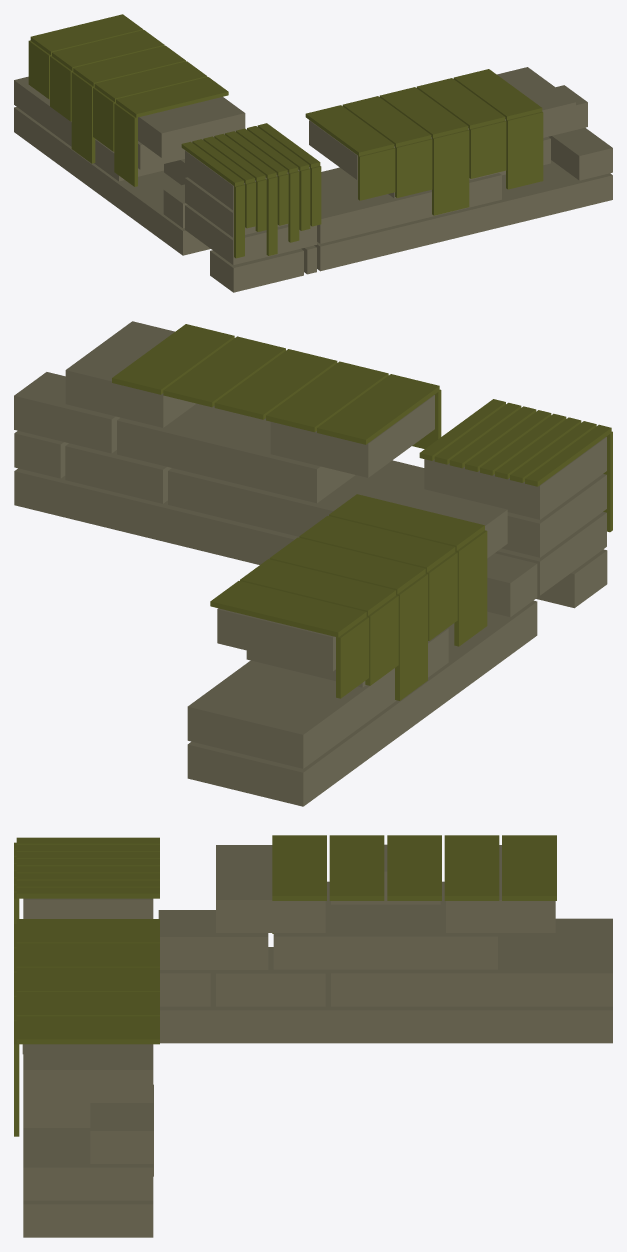
The model's file is SM_PretilEsquina_v4_Red_e1_Danado_LOD1.fbx.
The picture shows the model from 3 angles, top to bottom: view 1: azimuth 30°, elevation 25°; view 2: azimuth 150°, elevation 25°; view 3: azimuth 270°, elevation 25°; orthographic projection. The views are drawn at different scales.
Parts seen in each view (by area): view 1: SM_pretil_azotea_v37_LOD1; view 2: SM_pretil_azotea_v37_LOD1; view 3: SM_pretil_azotea_v37_LOD1.
Boxes of the visible parts, box(x1,y1,x2,y2) form: SM_pretil_azotea_v37_LOD1: box(14, 14, 612, 292); SM_pretil_azotea_v37_LOD1: box(14, 321, 612, 806); SM_pretil_azotea_v37_LOD1: box(14, 835, 612, 1237).
Bounding box in the file's own units: 4.43 × 1.23 × 4.43.
